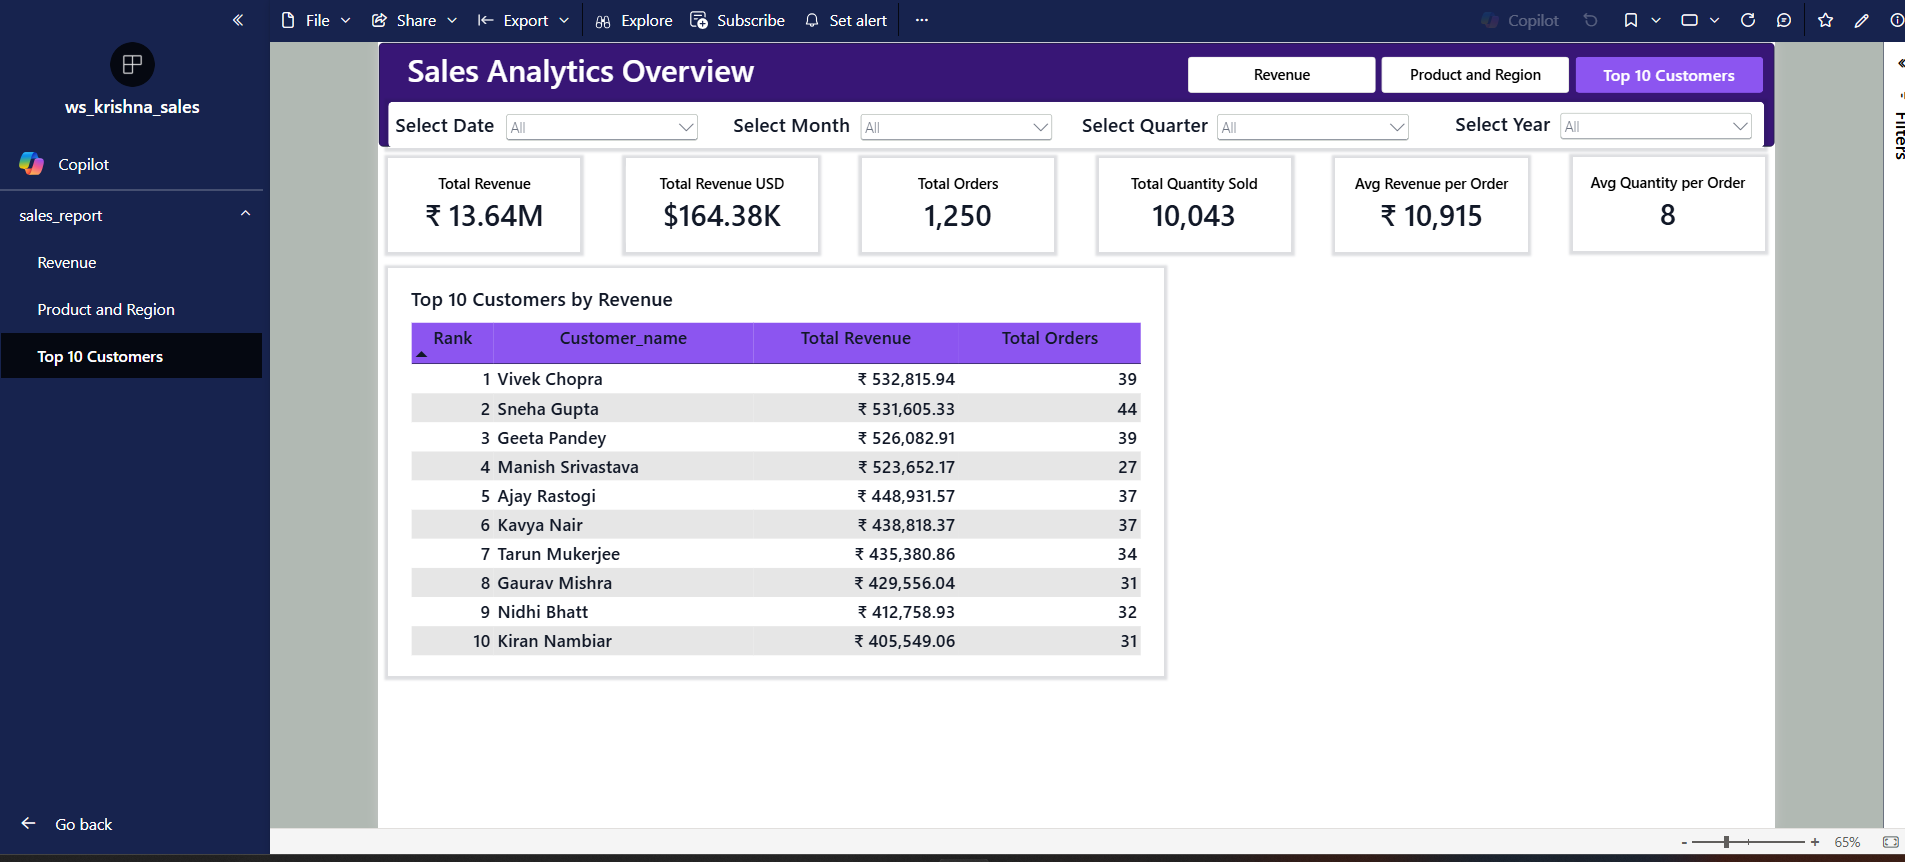

The page's visual inventory and layout, read from the dashboard file:
{"tool":"powerbi","page":{"name":"Top 10 Customers","canvas":[1920,1080],"ordinal":2},"visuals":[{"type":"shape","box":[0,0,1920.1,144.8],"z":0},{"type":"textbox","box":[1457.3,92.6,175.5,43.4],"z":0,"group":"g3"},{"type":"textbox","box":[480.5,94.1,175.5,43.4],"z":0,"group":"g2"},{"type":"textbox","box":[966.4,94.1,175.5,43.4],"z":0,"group":"g4"},{"type":"textbox","box":[14.5,95.9,155.6,38],"z":0,"group":"g1"},{"type":"textbox","box":[0,9,557.4,72.4],"z":1000},{"type":"slicer","fields":{"Values":["dim_date.year"]},"box":[1617.8,90.5,275.1,47.1],"z":1000,"group":"g3"},{"type":"slicer","fields":{"Values":["dim_date.full_date"]},"box":[170.1,92.3,275.1,47.1],"z":1000,"group":"g1"},{"type":"slicer","fields":{"Values":["dim_date.month_name"]},"box":[656,92.3,275.1,47.1],"z":1000,"group":"g2"},{"type":"slicer","fields":{"Values":["dim_date.quarter"]},"box":[1146.9,92.6,275.1,47.1],"z":1000,"group":"g4"},{"type":"shape","box":[14.5,159.3,264.2,128.5],"z":2000},{"type":"shape","box":[339.9,159.3,264.2,128.5],"z":3000},{"type":"shape","box":[665.2,159.3,264.2,128.5],"z":4000},{"type":"shape","box":[1316,159.3,264.2,128.5],"z":5000},{"type":"shape","box":[1641.4,157.4,264.2,128.5],"z":6000},{"type":"shape","box":[990.6,159.3,264.2,128.5],"z":7000},{"type":"shape","box":[14.5,81.4,1891.1,63.3],"z":8000},{"type":"group","id":"g1","title":"Group 1","box":[14.5,92.3,430.7,47.1],"z":9000},{"type":"group","id":"g2","title":"Group 2","box":[480.5,92.3,450.6,47.1],"z":10000},{"type":"group","id":"g3","title":"Group 4","box":[1457.3,90.5,435.6,47.1],"z":11000},{"type":"group","id":"g4","title":"Group 3","box":[966.4,92.6,455.6,47.1],"z":12000},{"type":"cardVisual","fields":{"Data":["fact_sales.Avg Quantity per Order"]},"box":[1648.6,161.1,249.7,121],"z":13000},{"type":"cardVisual","fields":{"Data":["fact_sales.Avg Revenue per Order"]},"box":[1322.9,162.9,249.7,121],"z":14000},{"type":"cardVisual","fields":{"Data":["fact_sales.Total Quantity Sold"]},"box":[997.1,162.9,249.7,121],"z":15000},{"type":"cardVisual","fields":{"Data":["fact_sales.Total Orders"]},"box":[673.2,162.9,249.7,121],"z":16000},{"type":"cardVisual","fields":{"Data":["fact_sales.Total Revenue USD"]},"box":[347.5,162.9,249.7,121],"z":17000},{"type":"cardVisual","fields":{"Data":["fact_sales.Total Revenue"]},"box":[21.7,162.9,249.7,121],"z":18000},{"type":"shape","box":[14.5,311.3,1065.9,560],"z":19000},{"type":"tableEx","title":"Top 10 Customers by Revenue","fields":{"Values":["fact_sales.Customer Rank","dim_customer.customer_name","fact_sales.Total Revenue","fact_sales.Total Orders"]},"box":[29,320.3,1036.9,541.1],"z":22002},{"type":"pageNavigator","box":[1112.9,19.9,792.6,50.7],"z":22003}]}

Visuals, with their boxes on the page's 1920x1080 design canvas (x1, y1, x2, y2). These are canvas units, not pixel positions in the 1905x862 screenshot, which may show the page scaled, cropped or inside an application window:
shape: bbox(0, 0, 1920, 145)
textbox: bbox(1457, 93, 1633, 136)
textbox: bbox(480, 94, 656, 138)
textbox: bbox(966, 94, 1142, 138)
textbox: bbox(14, 96, 170, 134)
textbox: bbox(0, 9, 557, 81)
slicer - dim_date.year: bbox(1618, 90, 1893, 138)
slicer - dim_date.full_date: bbox(170, 92, 445, 139)
slicer - dim_date.month_name: bbox(656, 92, 931, 139)
slicer - dim_date.quarter: bbox(1147, 93, 1422, 140)
shape: bbox(14, 159, 279, 288)
shape: bbox(340, 159, 604, 288)
shape: bbox(665, 159, 929, 288)
shape: bbox(1316, 159, 1580, 288)
shape: bbox(1641, 157, 1906, 286)
shape: bbox(991, 159, 1255, 288)
shape: bbox(14, 81, 1906, 145)
"Group 1" group: bbox(14, 92, 445, 139)
"Group 2" group: bbox(480, 92, 931, 139)
"Group 4" group: bbox(1457, 90, 1893, 138)
"Group 3" group: bbox(966, 93, 1422, 140)
cardVisual - fact_sales.Avg Quantity per Order: bbox(1649, 161, 1898, 282)
cardVisual - fact_sales.Avg Revenue per Order: bbox(1323, 163, 1573, 284)
cardVisual - fact_sales.Total Quantity Sold: bbox(997, 163, 1247, 284)
cardVisual - fact_sales.Total Orders: bbox(673, 163, 923, 284)
cardVisual - fact_sales.Total Revenue USD: bbox(348, 163, 597, 284)
cardVisual - fact_sales.Total Revenue: bbox(22, 163, 271, 284)
shape: bbox(14, 311, 1080, 871)
"Top 10 Customers by Revenue" tableEx: bbox(29, 320, 1066, 861)
pageNavigator: bbox(1113, 20, 1906, 71)
